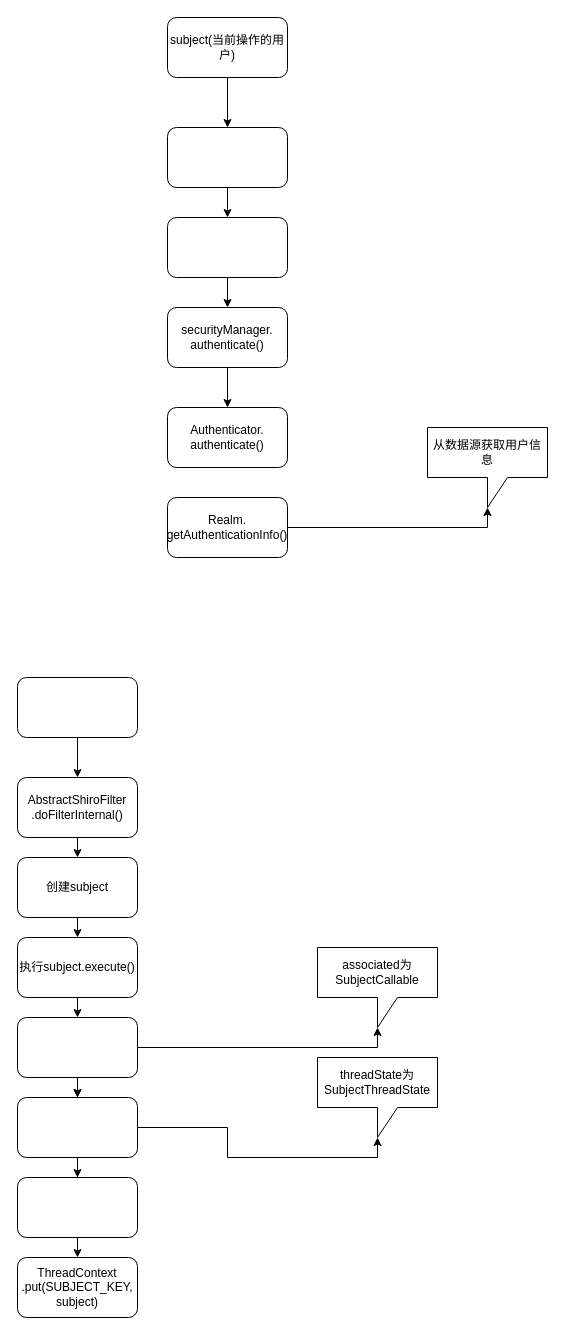
Image size: 565x1335. Some labels were removed from this diagram. The centre of each missing label's shape, as x and y in pixels:
"login" goes at point (227, 157).
"securityManager" goes at point (227, 247).
"执行associated.call()" goes at point (77, 1047).
"执行ThreadContext .bind(this.subject)" goes at point (77, 1207).
"执行threadState.bind()" goes at point (77, 1127).
"访问系统" goes at point (77, 707).
